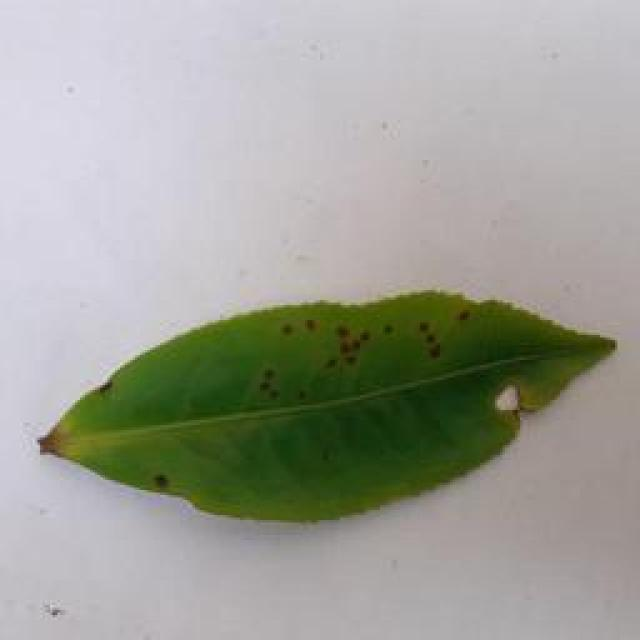Helopeltis: (20, 274, 640, 532)
